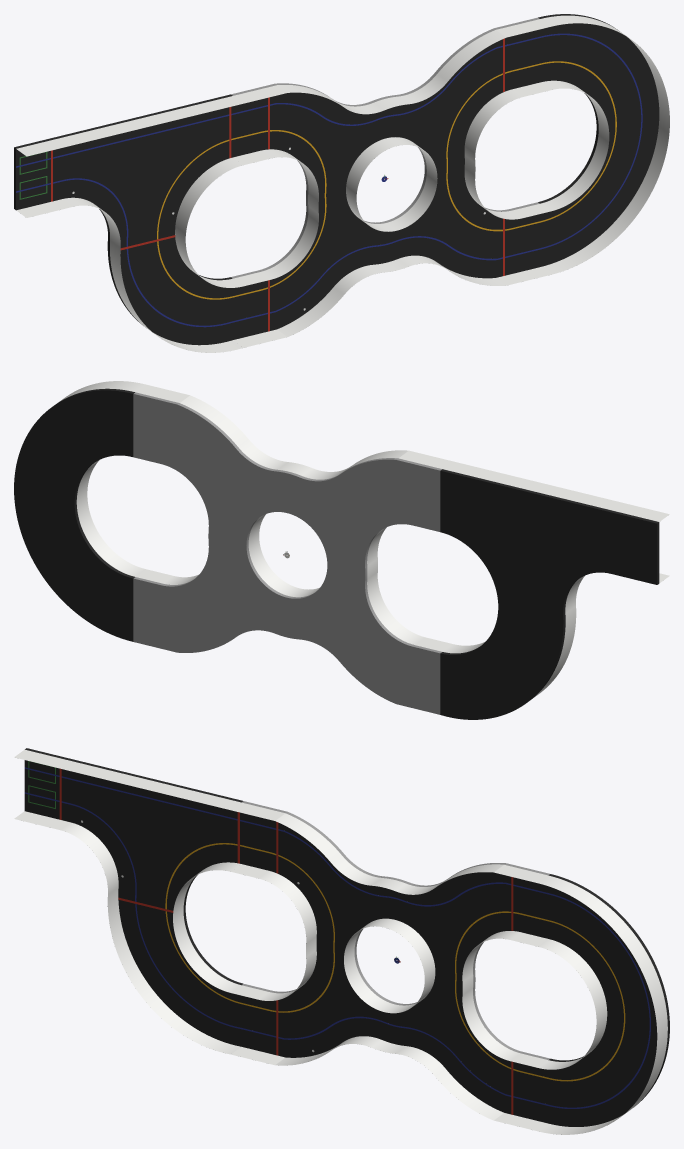
The model's file is Small Roundabout.obj.
3 views of the same model, one above another, from view 1: azimuth 30°, elevation 25°; view 2: azimuth 150°, elevation 25°; view 3: azimuth 330°, elevation 25° (orthographic).
Parts seen in each view (by area): view 1: Body2, Body1:1, Body1, Body3:1, Body4, Body6, Body3, Body5, Body2:2, Body7, Body3:2, Body2:1 (+1 smaller); view 2: Body2, Body1:1, Body1, Body4, Body2:2, Body7, Body2:1, Body3, Body3:2, Body3:1, Body5; view 3: Body2, Body1:1, Body1, Body3:2, Body3:1, Body6, Body4, Body3, Body5, Body2:2, Body7, Body2:1 (+1 smaller).
Boxes of the visible parts, bbox=[...] form: Body2: bbox=[231, 17, 539, 339]; Body1:1: bbox=[14, 94, 232, 345]; Body1: bbox=[538, 14, 659, 266]; Body3:1: bbox=[540, 15, 669, 274]; Body4: bbox=[233, 19, 549, 114]; Body6: bbox=[233, 255, 549, 347]; Body3: bbox=[346, 137, 437, 231]; Body5: bbox=[464, 82, 549, 219]; Body2:2: bbox=[16, 96, 242, 156]; Body7: bbox=[233, 149, 318, 286]; Body3:2: bbox=[16, 197, 242, 352]; Body2:1: bbox=[540, 80, 609, 211]; Body2: bbox=[133, 392, 441, 714]; Body1:1: bbox=[440, 469, 659, 719]; Body1: bbox=[14, 388, 134, 641]; Body4: bbox=[136, 384, 452, 479]; Body2:2: bbox=[443, 461, 669, 521]; Body7: bbox=[367, 527, 452, 651]; Body2:1: bbox=[76, 460, 145, 576]; Body3: bbox=[248, 514, 319, 597]; Body3:2: bbox=[532, 573, 669, 698]; Body3:1: bbox=[58, 381, 145, 402]; Body5: bbox=[136, 569, 198, 584]; Body2: bbox=[241, 801, 549, 1123]; Body1:1: bbox=[24, 748, 242, 1046]; Body1: bbox=[548, 874, 669, 1126]; Body3:2: bbox=[14, 811, 240, 1054]; Body3:1: bbox=[538, 875, 667, 1134]; Body6: bbox=[231, 1036, 547, 1131]; Body4: bbox=[231, 802, 547, 894]; Body3: bbox=[344, 918, 435, 1013]; Body5: bbox=[462, 931, 547, 1067]; Body2:2: bbox=[14, 749, 240, 810]; Body7: bbox=[231, 864, 316, 1000]; Body2:1: bbox=[538, 939, 607, 1069].
Bounding box in the file's own units: 8.89 × 3.28 × 0.3048.
